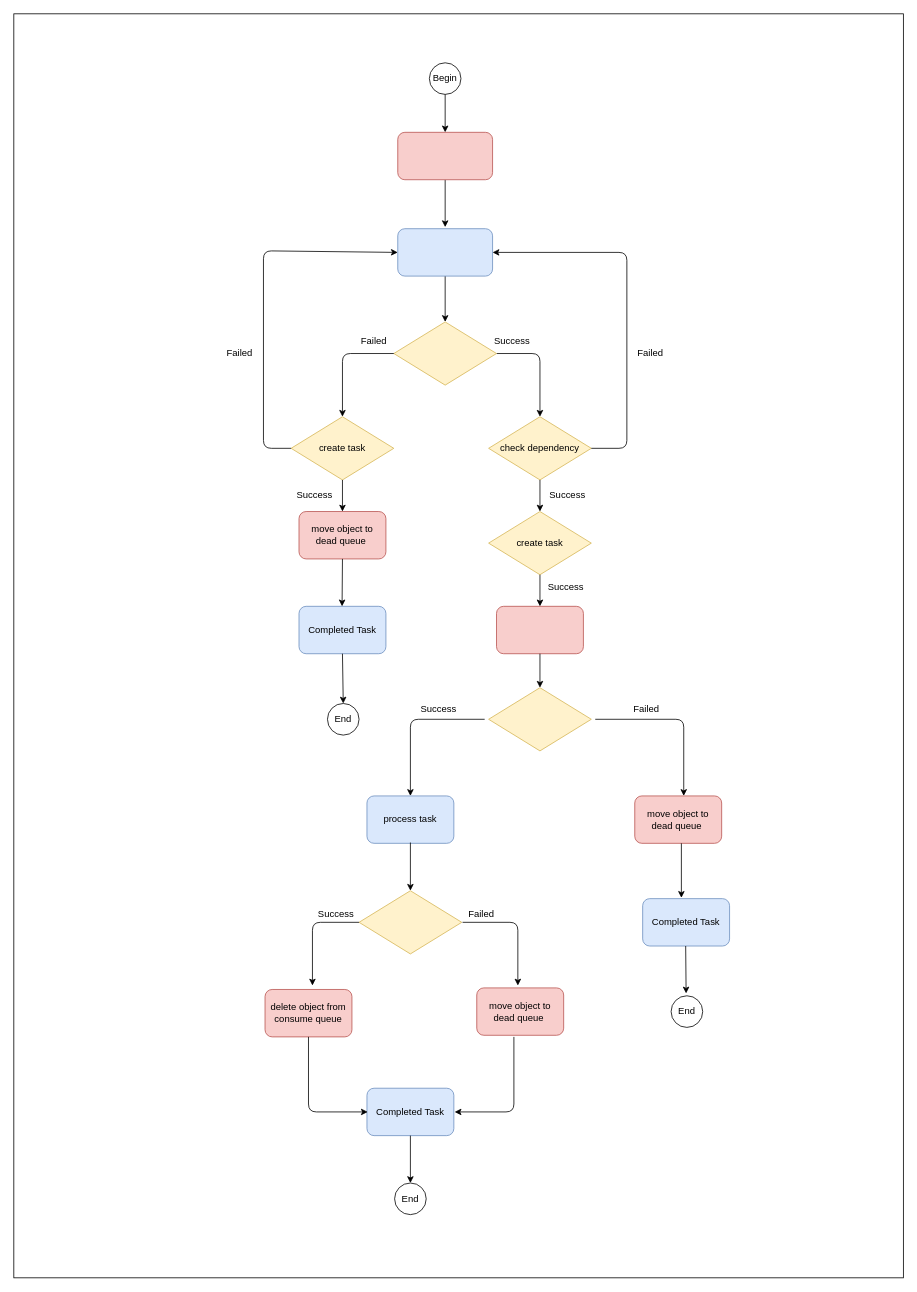
Some shapes in this 917 by 1292 pixel diagram are drawn without their labels. Here are the shapes that lost their labels. From the top down, the box of each, then its label:
(397, 132, 493, 180): get object list from consume queue
(397, 228, 493, 276): pick one
(393, 321, 497, 385): check key
(496, 606, 583, 654): get object from consume queue
(488, 687, 591, 751): Check Payload
(358, 890, 462, 954): processed
